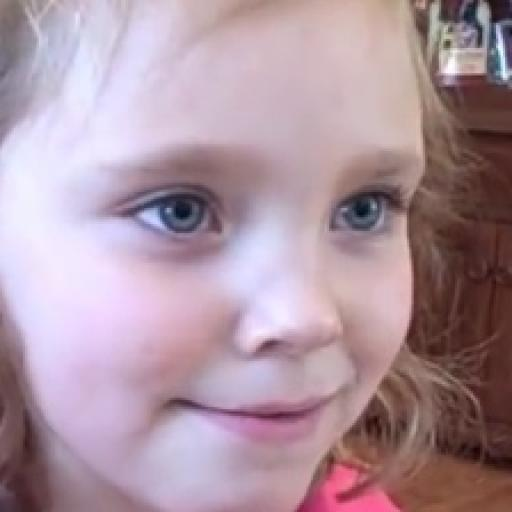Autism: (43, 25, 423, 512)
